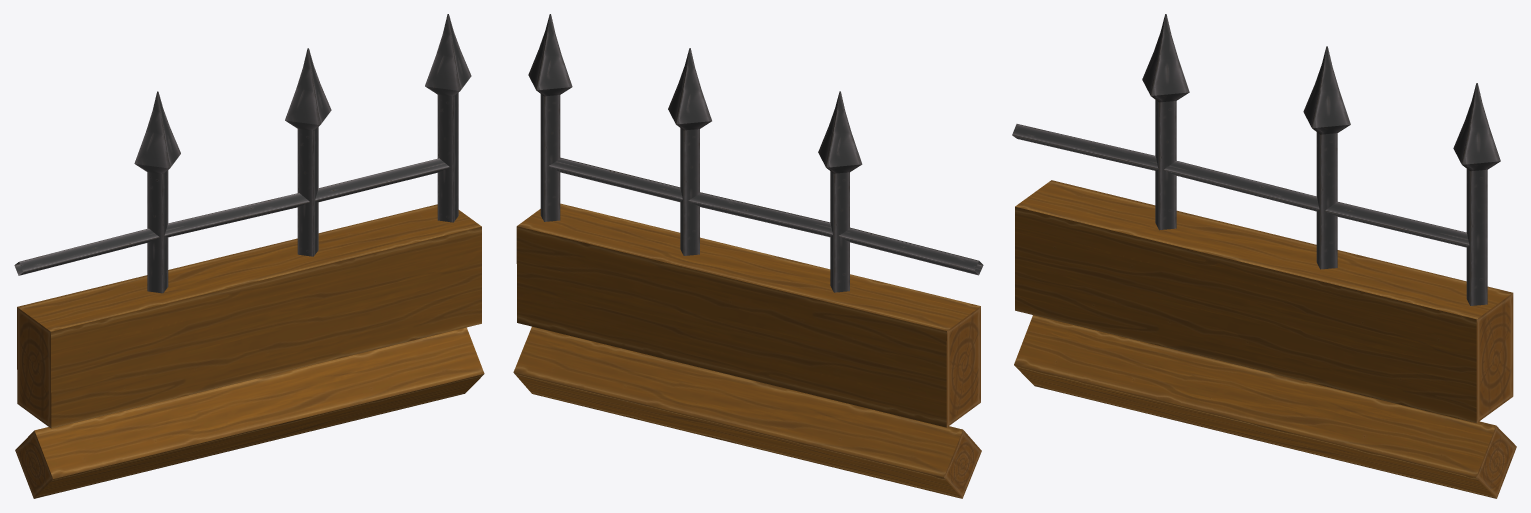
File: SM_House_Roof_Beam_Half_Tiling.fbx
3 views of the same model, side by side, from view 1: azimuth 30°, elevation 25°; view 2: azimuth 150°, elevation 25°; view 3: azimuth 330°, elevation 25° (orthographic). The views are drawn at different scales.
Parts seen in each view (by area): view 1: SM_House_Roof_Beam_Half_Tiling_LOD0; view 2: SM_House_Roof_Beam_Half_Tiling_LOD0; view 3: SM_House_Roof_Beam_Half_Tiling_LOD0.
Part boxes in pixels (left/top/right/bottom): SM_House_Roof_Beam_Half_Tiling_LOD0: left=14, top=14, right=484, bottom=498; SM_House_Roof_Beam_Half_Tiling_LOD0: left=513, top=14, right=983, bottom=498; SM_House_Roof_Beam_Half_Tiling_LOD0: left=1012, top=14, right=1516, bottom=498.
Bounding box in the file's own units: 263 × 38.38 × 213.
